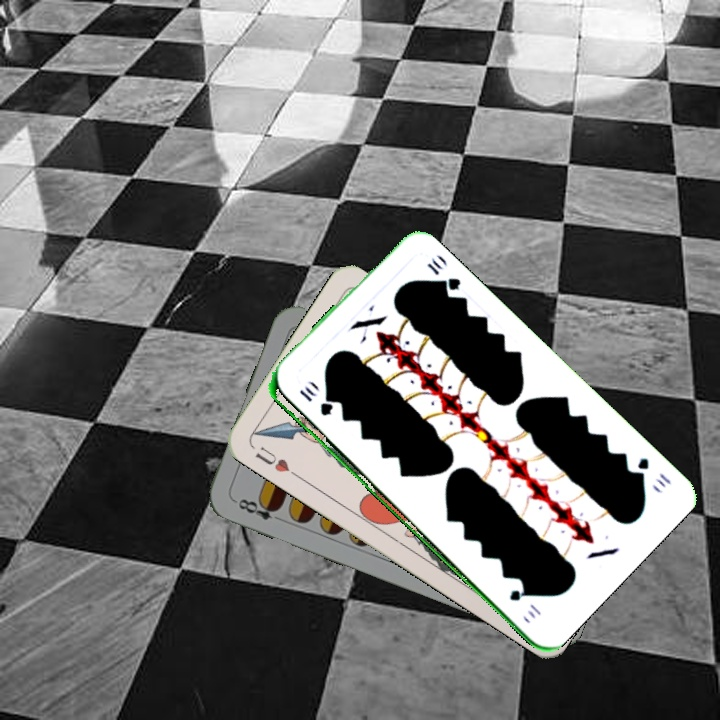E8: (230, 494, 287, 525)
G10: (630, 453, 674, 489), (295, 385, 334, 419)
HU: (251, 442, 301, 480)
